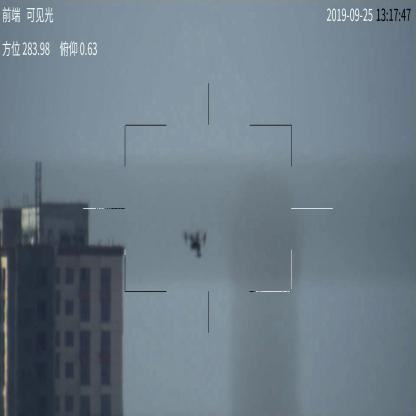uav: (182, 227, 209, 259)
